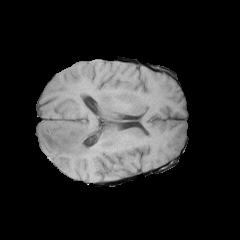glioma: (40, 124, 97, 167)
